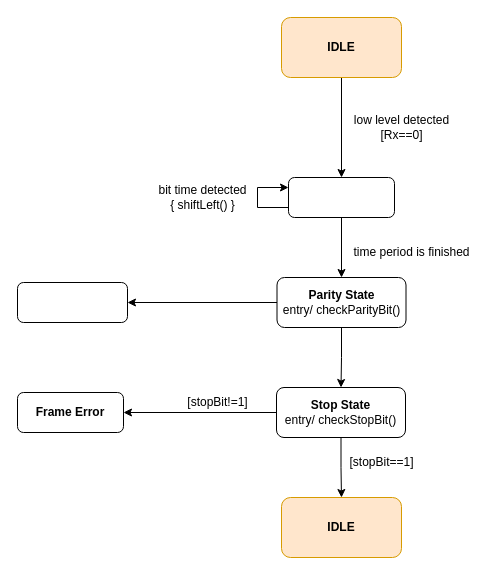
This 499x575 diagram has some shape labels left out. Here are the shapes that lost their labels. From the top down, the centre of each, then its label:
pixel 341 197: Waiting Data
pixel 72 302: Parity Error
